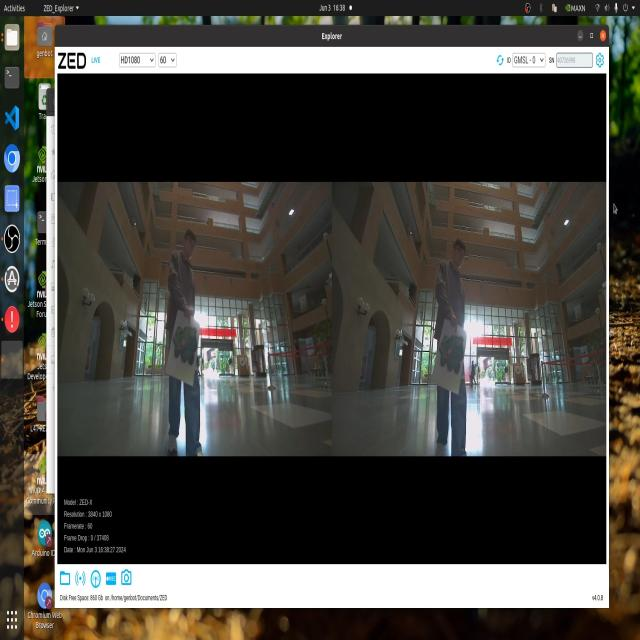green: (433, 327, 466, 376), (171, 318, 202, 362)
